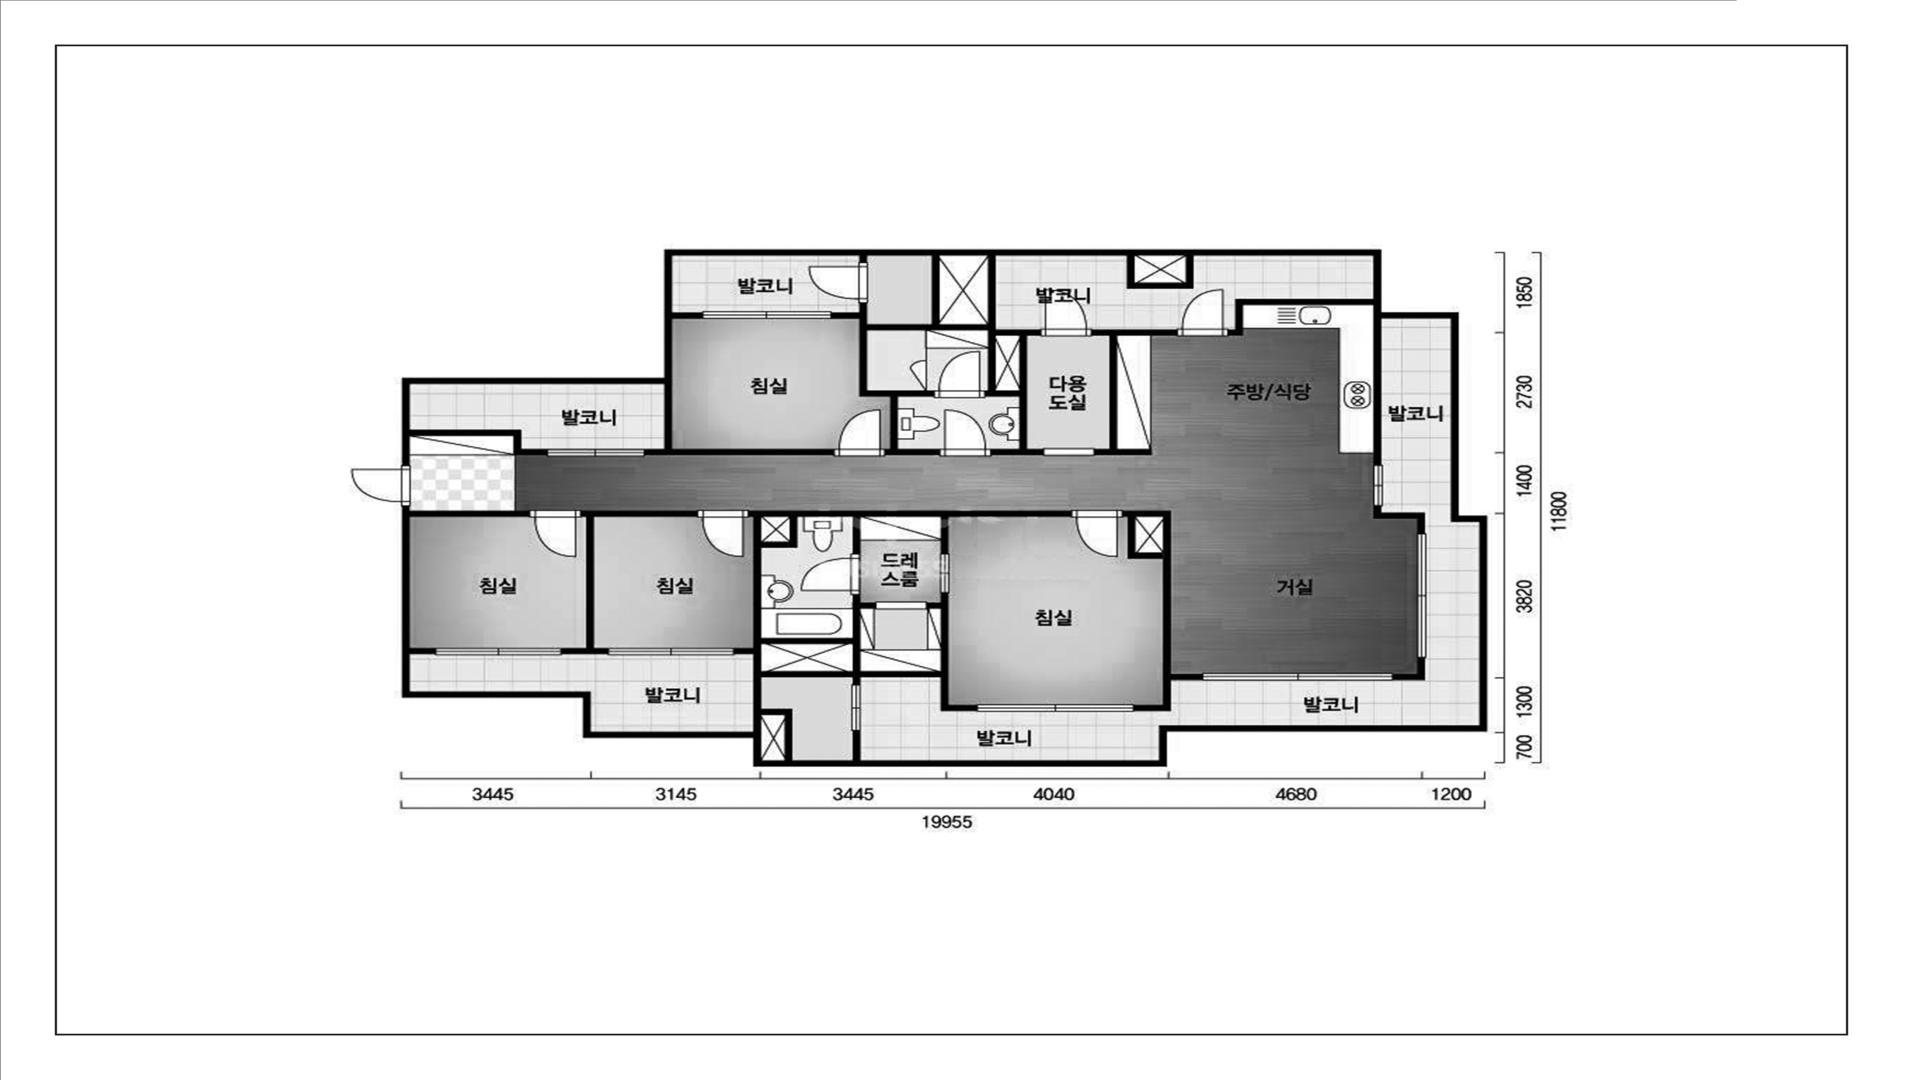door: (349, 464, 411, 506), (799, 554, 861, 595), (807, 262, 869, 303), (940, 409, 992, 456), (1040, 289, 1092, 336), (530, 510, 582, 558), (698, 510, 749, 558), (1071, 510, 1122, 558), (833, 409, 885, 456), (935, 351, 985, 398), (1178, 289, 1228, 336), (909, 360, 927, 390), (1043, 448, 1095, 456), (876, 601, 928, 608)
wall: (402, 249, 1487, 766), (733, 510, 1071, 761), (832, 255, 1043, 455), (562, 510, 698, 654), (1122, 510, 1203, 711), (645, 384, 833, 455), (1092, 330, 1178, 455), (1228, 299, 1374, 335), (410, 430, 547, 455), (761, 644, 853, 673), (1126, 255, 1193, 289), (1373, 506, 1425, 534), (996, 335, 1021, 393), (1134, 516, 1164, 553), (1374, 319, 1381, 465), (1393, 658, 1424, 680), (409, 512, 530, 517), (853, 731, 861, 761), (673, 313, 703, 319), (409, 647, 435, 654), (860, 255, 866, 262)
window: (1203, 673, 1393, 680), (1416, 534, 1427, 658), (977, 704, 1135, 712), (703, 311, 832, 319), (435, 647, 562, 655), (608, 647, 733, 655), (547, 448, 645, 456), (851, 684, 861, 731), (1373, 465, 1383, 506), (939, 554, 949, 593)
